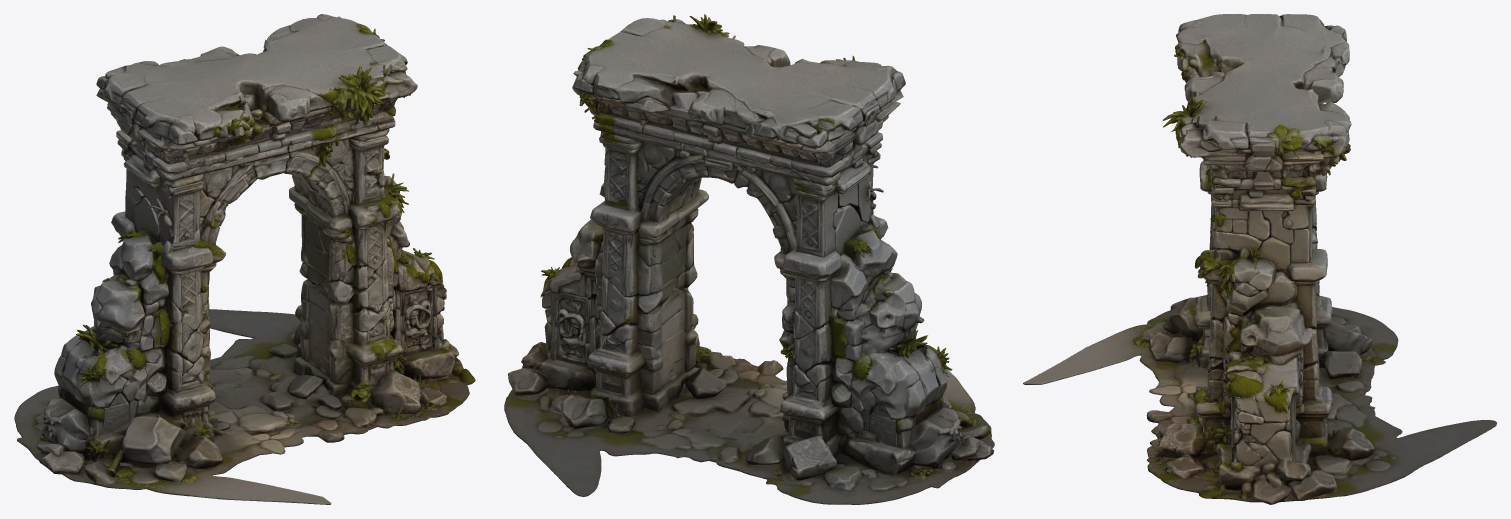
File: ancient-stone-gate.glb
The picture shows the model from 3 angles, left to right: view 1: azimuth 30°, elevation 25°; view 2: azimuth 150°, elevation 25°; view 3: azimuth 270°, elevation 25°; orthographic projection. The views are drawn at different scales.
Parts seen in each view (by area): view 1: tripo_node_7554d447_tripo_mat_7554d447_0_21; view 2: tripo_node_7554d447_tripo_mat_7554d447_0_21; view 3: tripo_node_7554d447_tripo_mat_7554d447_0_21.
Part boxes in pixels (<box>): tripo_node_7554d447_tripo_mat_7554d447_0_21: <box>14,14,475,504</box>; tripo_node_7554d447_tripo_mat_7554d447_0_21: <box>504,14,994,504</box>; tripo_node_7554d447_tripo_mat_7554d447_0_21: <box>1023,14,1496,504</box>.
Bounding box in the file's own units: 0.9794 × 0.7437 × 0.934.
Materials: 1 (1 with a texture image).
